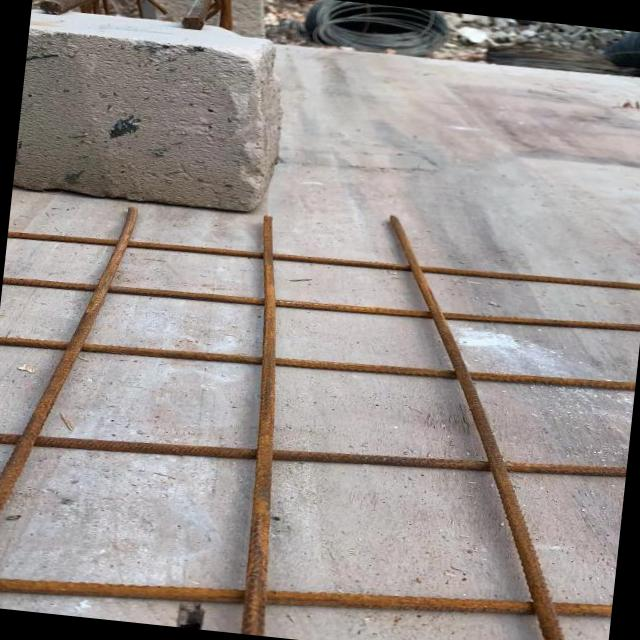ribbed bar: (338, 212, 625, 640), (0, 398, 625, 512), (0, 536, 611, 640), (0, 313, 634, 413), (1, 254, 640, 353), (6, 216, 640, 306), (0, 195, 147, 578), (217, 212, 307, 636)
